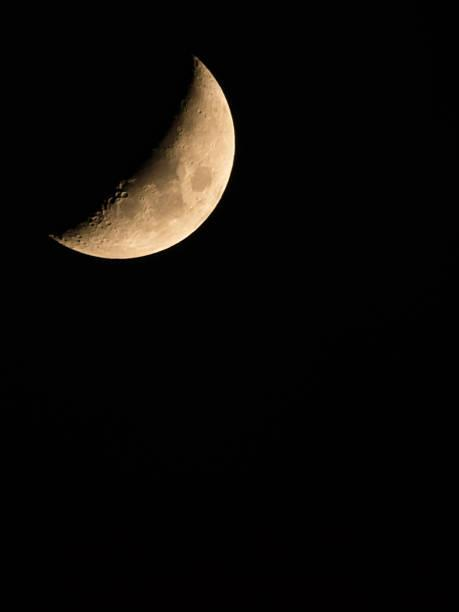moon: (18, 16, 235, 257)
